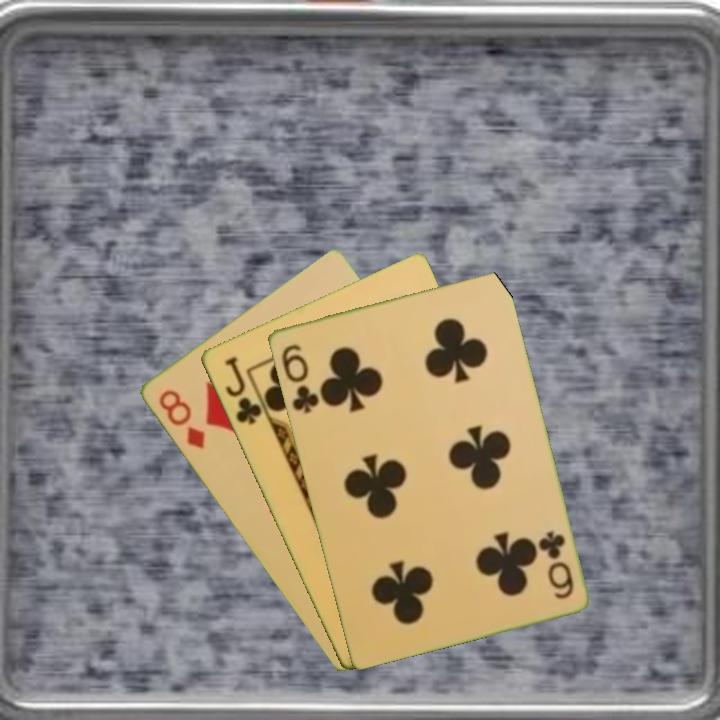6c: (277, 340, 322, 417), (535, 527, 576, 602)
8d: (154, 386, 208, 452)
Jc: (221, 353, 264, 428)
